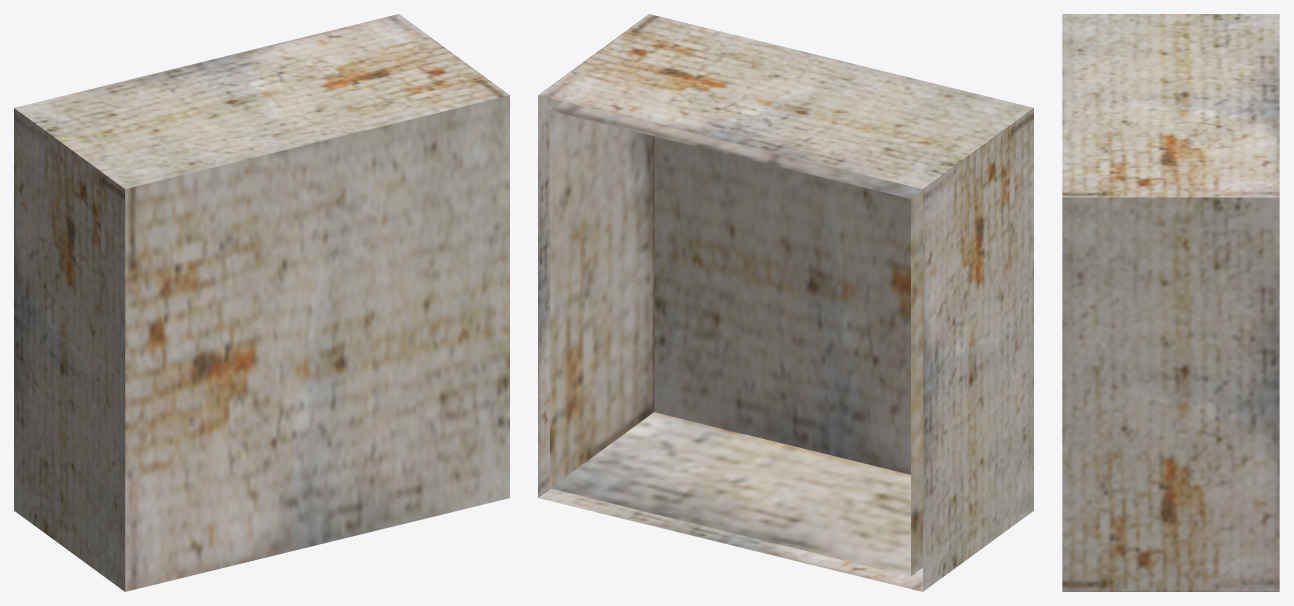
The model's file is 4x4base_wtf.obj.
The picture shows the model from 3 angles, left to right: view 1: azimuth 30°, elevation 25°; view 2: azimuth 150°, elevation 25°; view 3: azimuth 270°, elevation 25°; orthographic projection. The views are drawn at different scales.
Parts seen in each view (by area): view 1: group2; view 2: group2; view 3: group2.
Part boxes in pixels (x1,y1,x2,y2): group2: [14, 14, 509, 591]; group2: [538, 14, 1033, 591]; group2: [1062, 14, 1279, 591].
Size of the model in its own units: 660 by 660 by 330.
